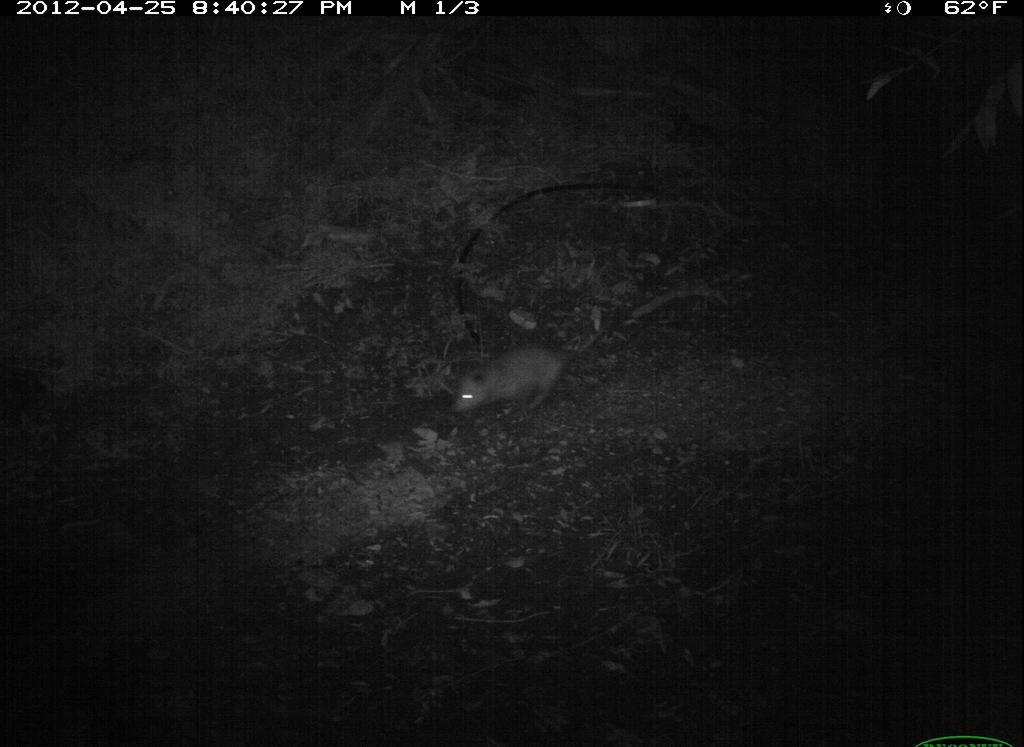opossum: (443, 321, 606, 429)
